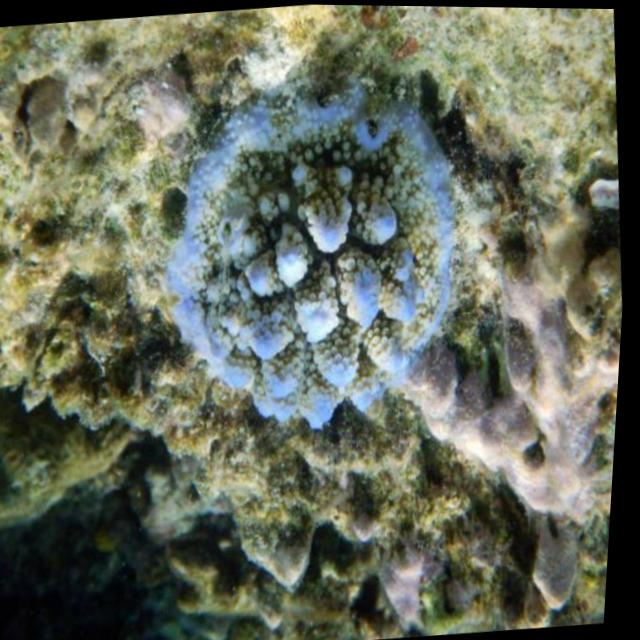Bleached Coral: (133, 64, 508, 433)
